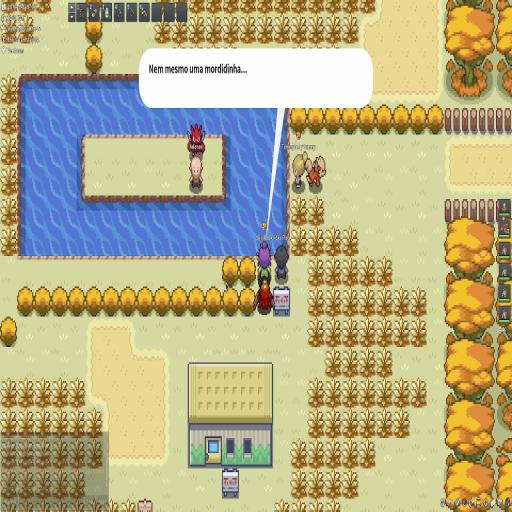NMUM: (148, 64, 248, 75)
